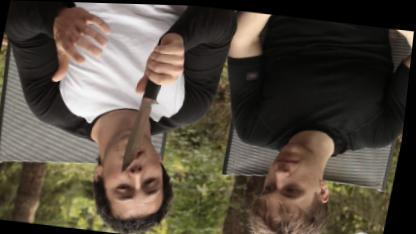knife: (119, 45, 189, 183)
